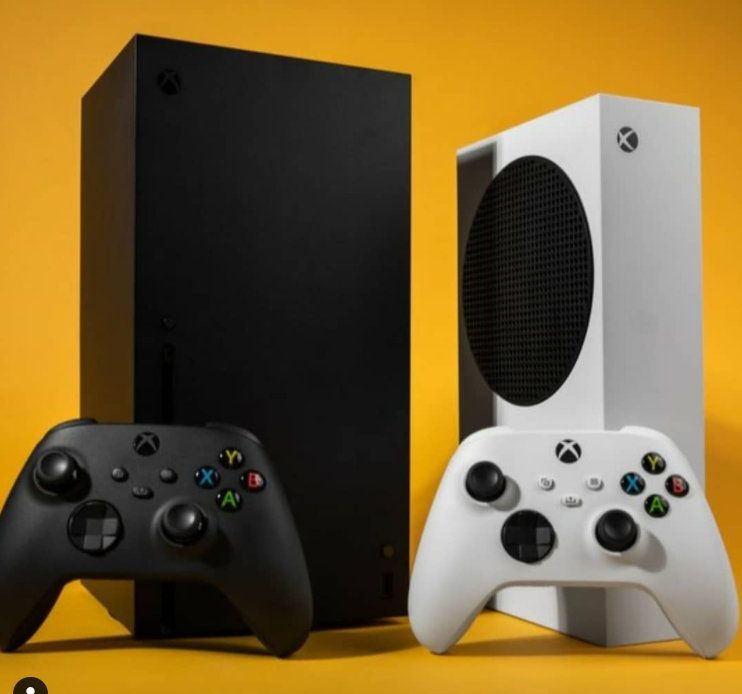gamingconsole: (412, 425, 740, 658), (3, 420, 312, 658)
